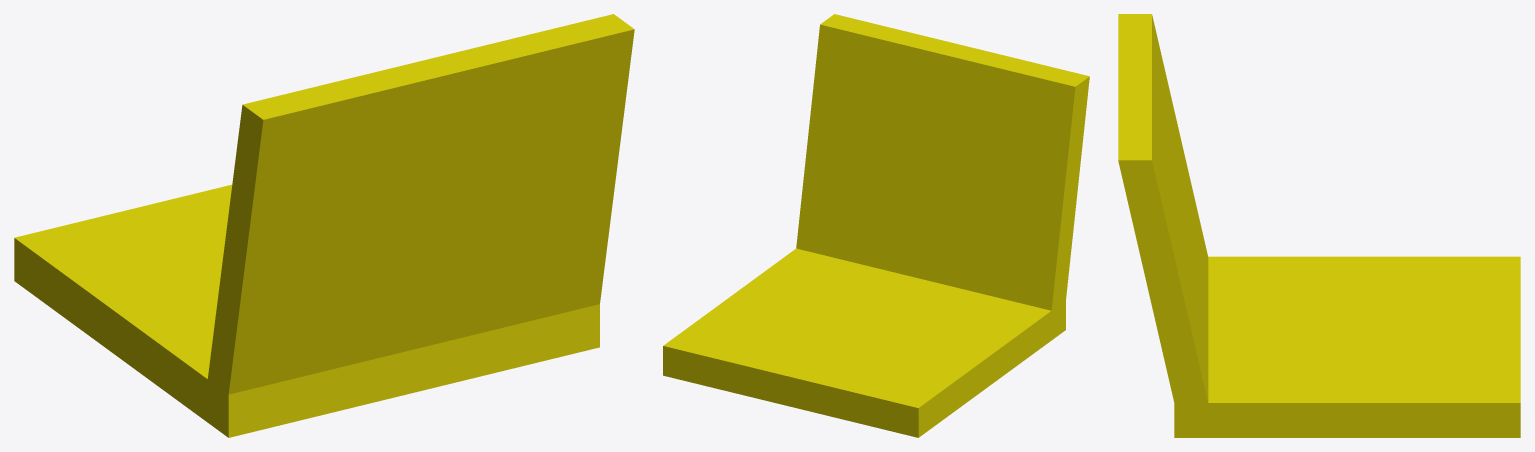
Rendered from seat_yellow_.fbx.
The picture shows the model from 3 angles, left to right: view 1: azimuth 30°, elevation 25°; view 2: azimuth 150°, elevation 25°; view 3: azimuth 270°, elevation 25°; orthographic projection. The views are drawn at different scales.
Parts seen in each view (by area): view 1: chairs.001; view 2: chairs.001; view 3: chairs.001.
Boxes of the visible parts, bbox=[...] form: chairs.001: bbox=[14, 14, 634, 437]; chairs.001: bbox=[663, 14, 1089, 437]; chairs.001: bbox=[1118, 14, 1520, 437].
Bounding box in the file's own units: 43.75 × 38.67 × 50.83.
